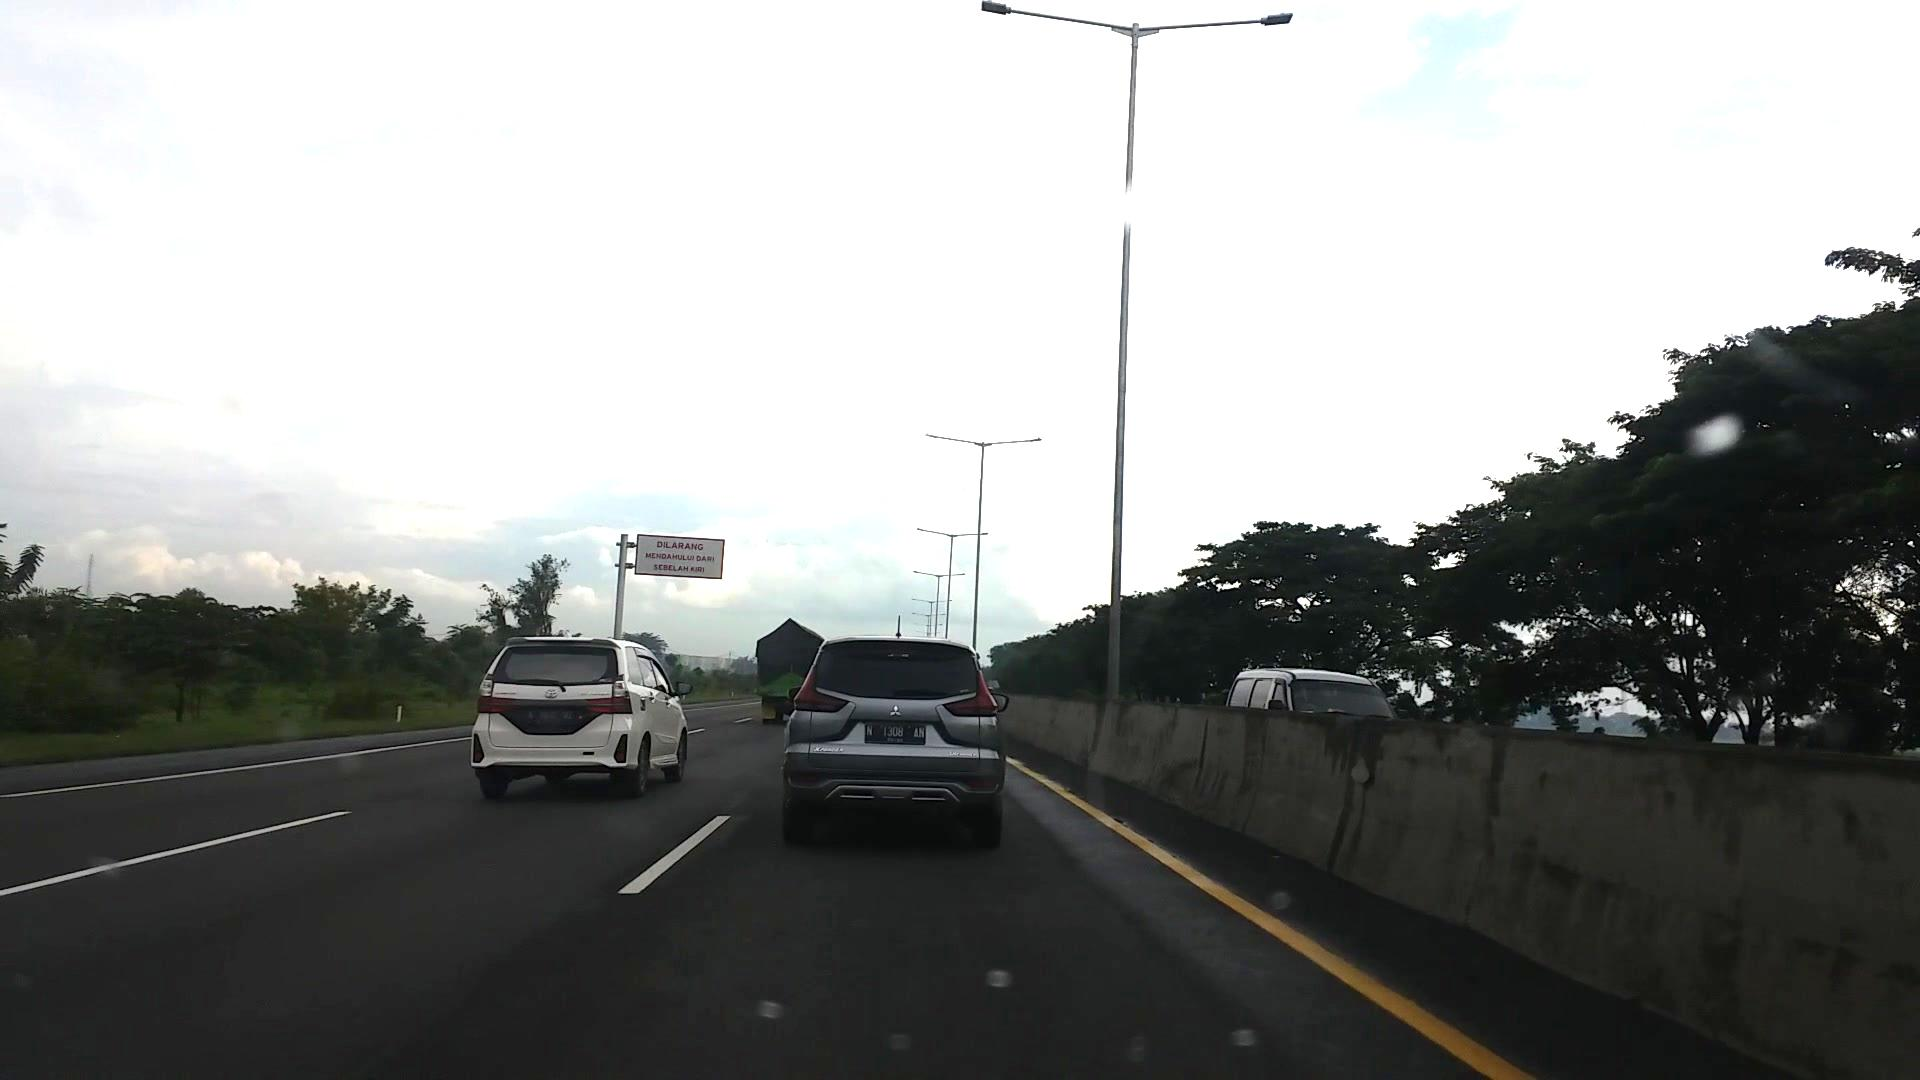plate_positive: (865, 723, 926, 745)
